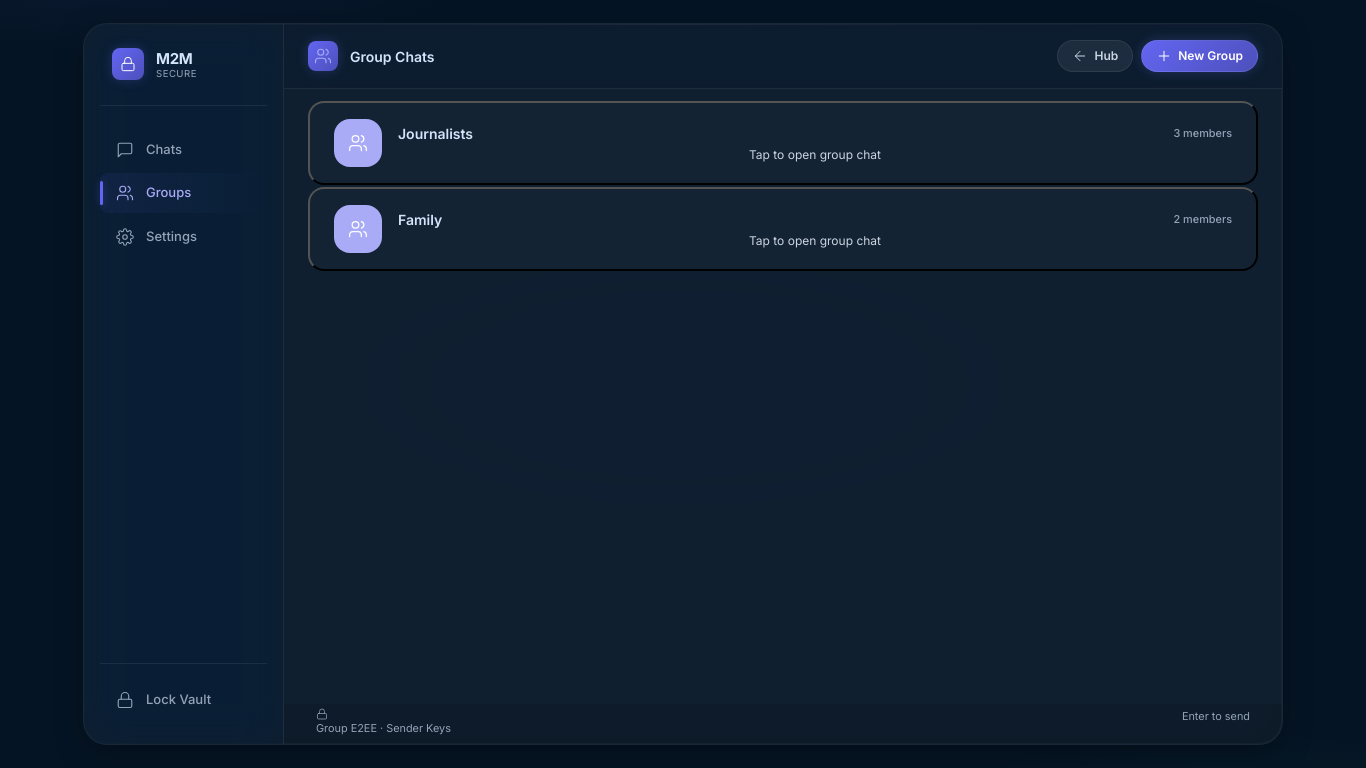
Test: GroupChatView — inbound group messages › renders an inbound message as received regardless of the payload flag
What coordinates should you click on to do the following:
click the text "Journalists"
I would click on:
 (436, 133)
Its box is [398,122,473,144].
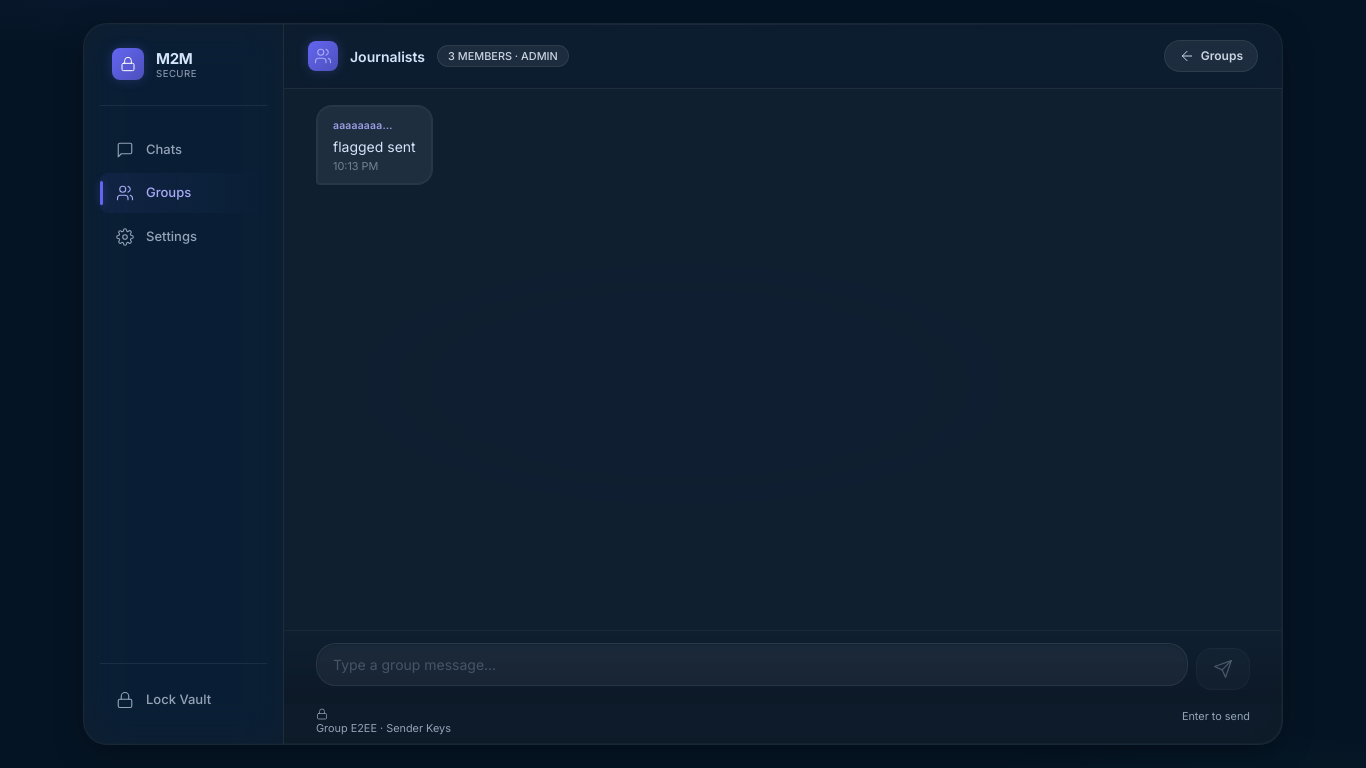
Now the text box is shown, box [316,643,1188,686]
